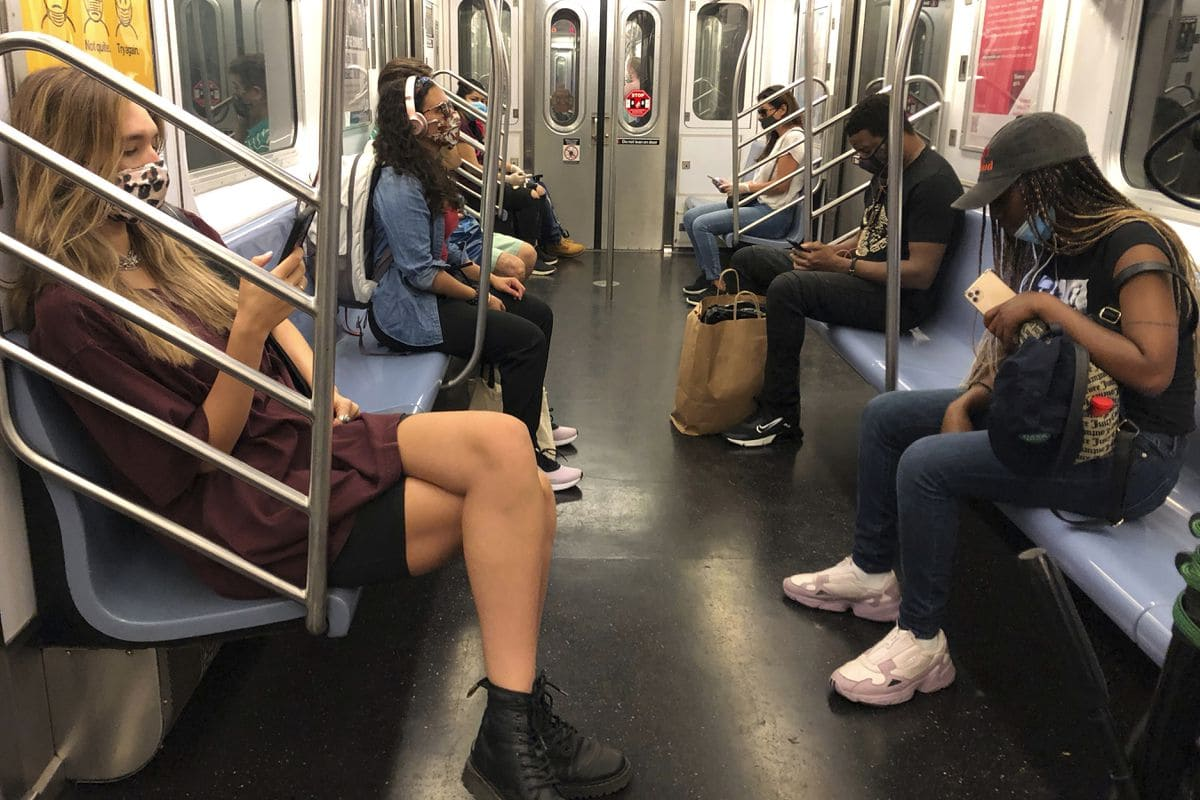mask_weared_incorrect: (996, 183, 1054, 243), (759, 107, 779, 127)
with_mask: (114, 120, 168, 214), (423, 99, 458, 148), (853, 136, 887, 176), (468, 90, 487, 116)
